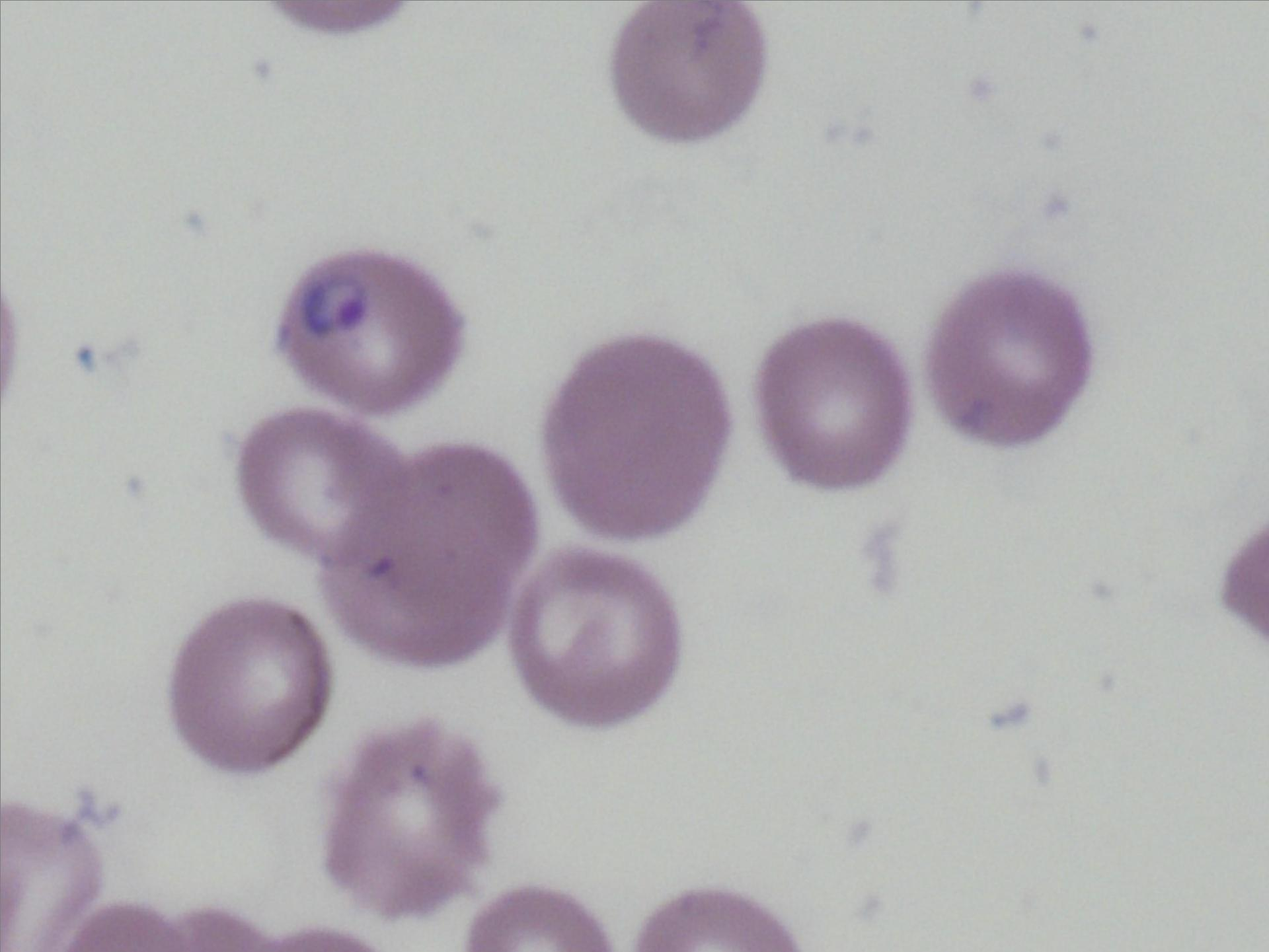Infected: (273, 254, 469, 407)
Uninfected: (542, 333, 727, 536), (322, 723, 494, 918), (513, 549, 686, 730), (932, 267, 1094, 457), (322, 496, 498, 668), (167, 598, 333, 771), (238, 408, 408, 567), (762, 316, 908, 494), (355, 443, 535, 580), (612, 0, 768, 146)
